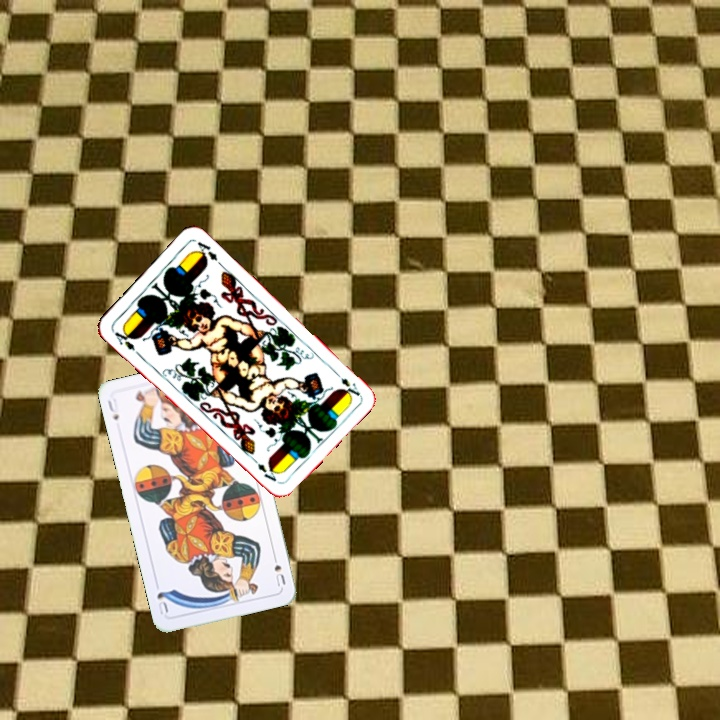EA: (108, 324, 138, 353), (337, 374, 363, 400)
SU: (269, 549, 288, 589), (103, 394, 122, 423)
